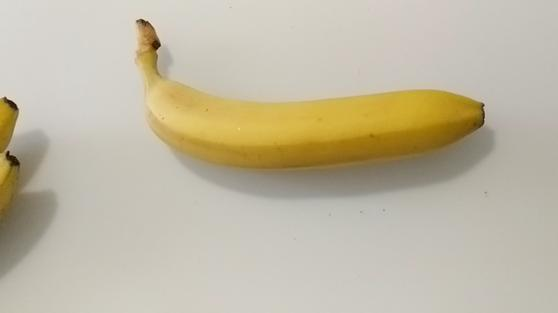banana: (123, 14, 486, 177)
